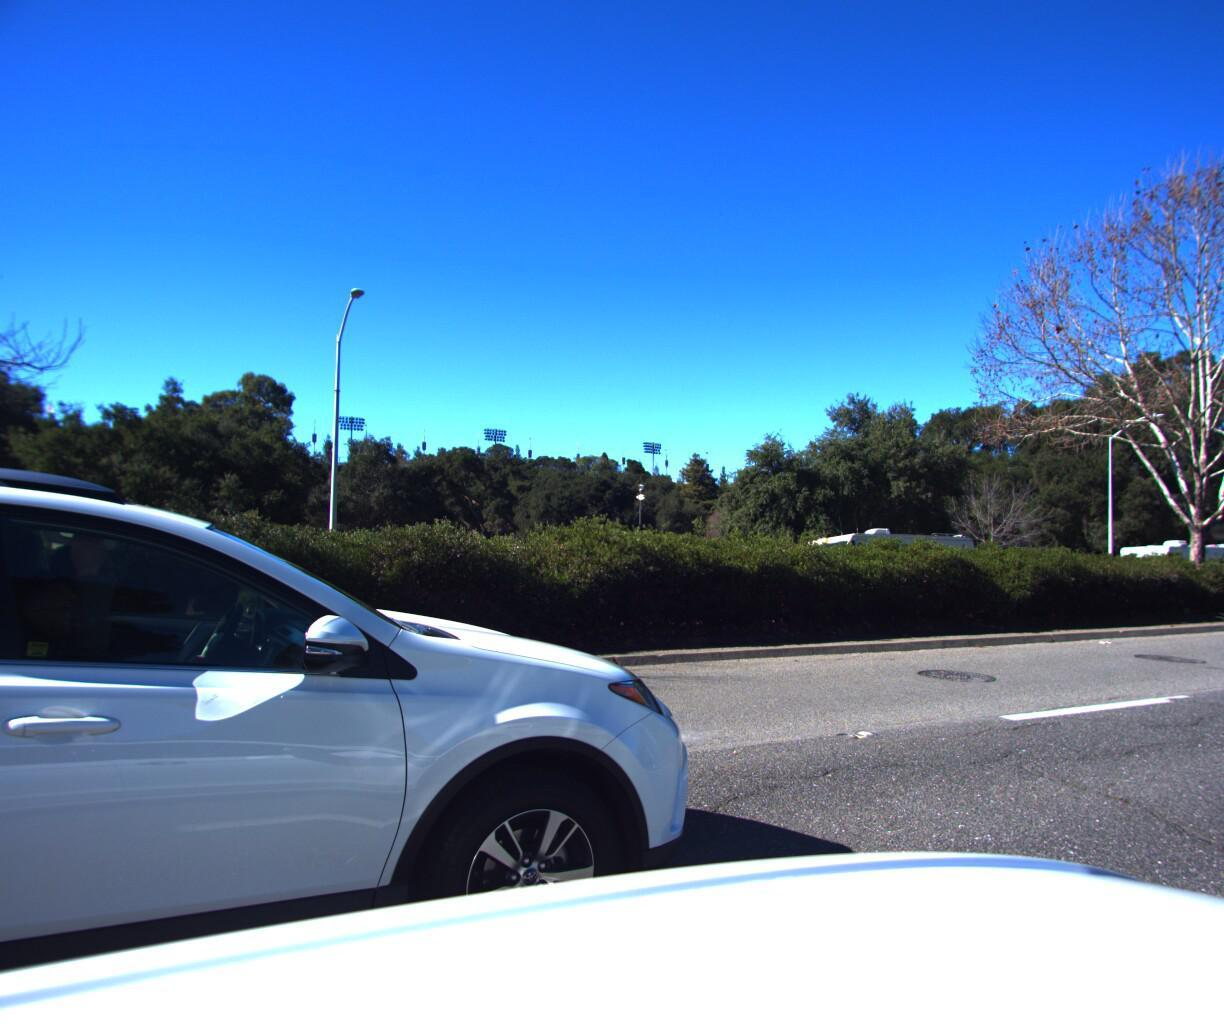car: (0, 352, 774, 1024)
other_vehicle: (779, 518, 982, 583), (1108, 531, 1224, 580)
